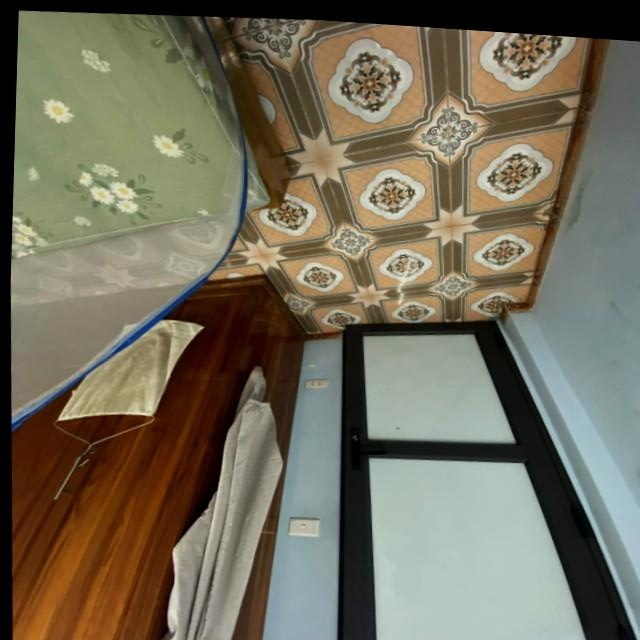outlet: (304, 378, 327, 391)
